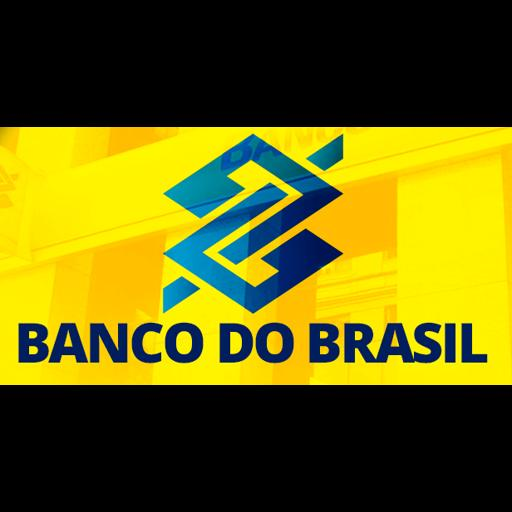Banco do Brasil S-A: (0, 127, 512, 385)
